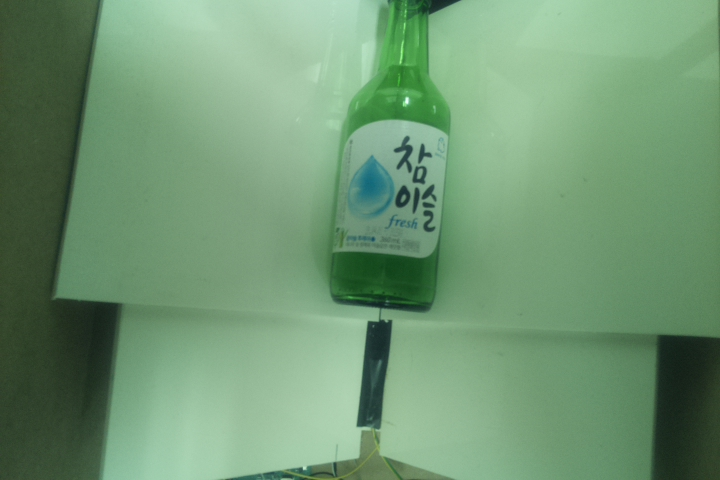soju: (325, 1, 450, 314)
